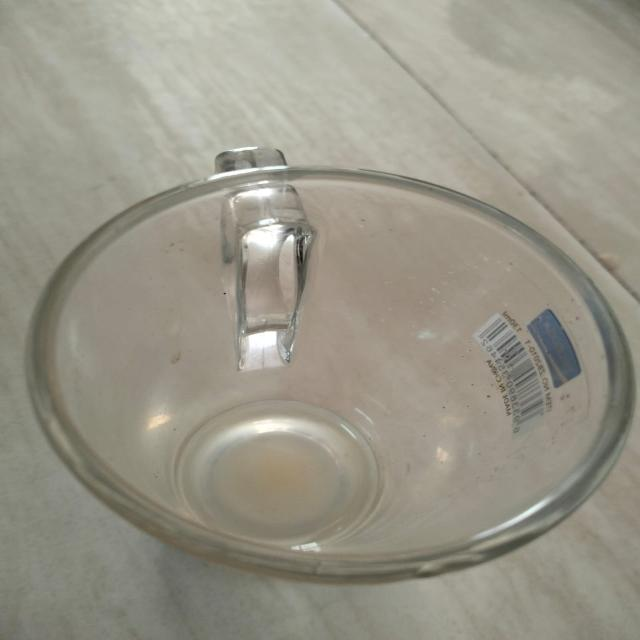glass-VX4N: (18, 136, 640, 590)
